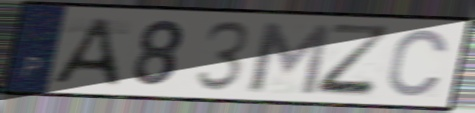3: (194, 19, 253, 93)
8: (130, 18, 186, 89)
A: (47, 16, 121, 89)
C: (384, 27, 452, 99)
M: (246, 19, 334, 97)
Z: (313, 22, 396, 100)
